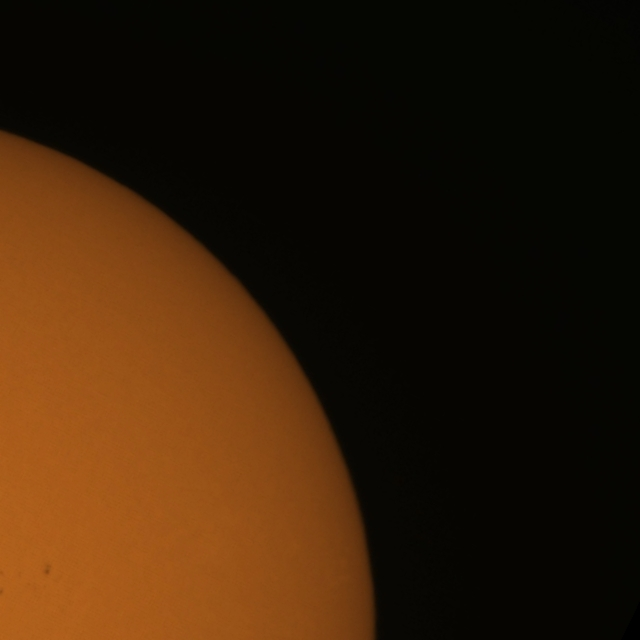sunspot: (42, 562, 53, 577)
